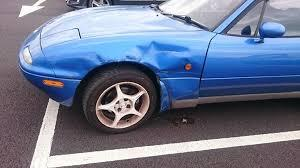Fender: (60, 30, 209, 112)
